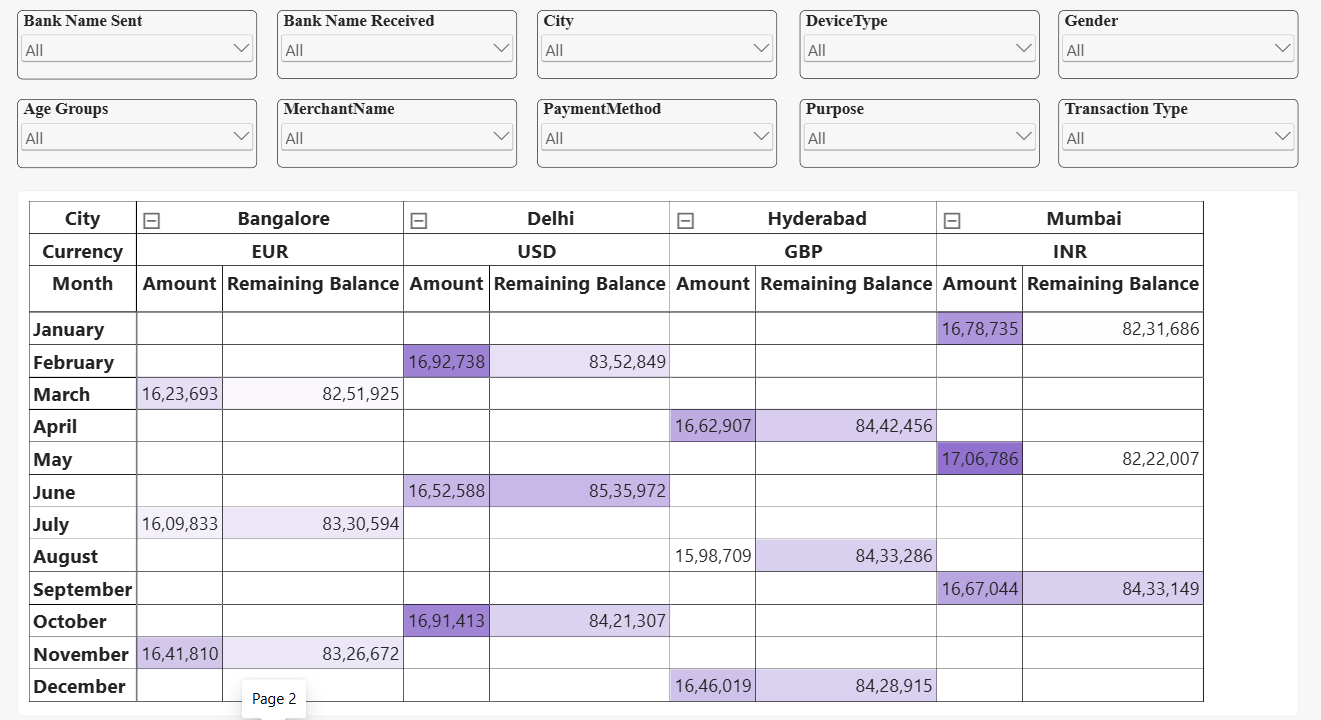

The dashboard page shown, as its layout file describes it:
{"tool":"powerbi","page":{"name":"Page 2","canvas":[1920,1080],"ordinal":1},"visuals":[{"type":"slicer","fields":{"Values":["UPI Transctions.BankNameSent"]},"box":[30.8,30.8,347.5,100],"z":0},{"type":"slicer","fields":{"Values":["UPI Transctions.BankNameReceived"]},"box":[407.2,30.8,347.5,99.5],"z":1000},{"type":"slicer","fields":{"Values":["UPI Transctions.City"]},"box":[783.6,30.8,347.5,99.5],"z":2000},{"type":"slicer","fields":{"Values":["UPI Transctions.DeviceType"]},"box":[1163.6,30.8,347.5,99.5],"z":3000},{"type":"slicer","fields":{"Values":["UPI Transctions.Gender"]},"box":[1538.2,30.8,347.5,99.5],"z":4000},{"type":"slicer","fields":{"Values":["UPI Transctions.Age Groups"]},"box":[30.8,159.3,347.5,100],"z":5000},{"type":"slicer","fields":{"Values":["UPI Transctions.MerchantName"]},"box":[407.2,159.3,347.5,99.5],"z":6000},{"type":"slicer","fields":{"Values":["UPI Transctions.PaymentMethod"]},"box":[783.6,159.3,347.5,99.5],"z":7000},{"type":"slicer","fields":{"Values":["UPI Transctions.Purpose"]},"box":[1163.6,159.3,347.5,99.5],"z":8000},{"type":"slicer","fields":{"Values":["UPI Transctions.TransactionType"]},"box":[1538.2,159.3,347.5,99.5],"z":9000},{"type":"pivotTable","fields":{"Columns":["UPI Transctions.City","UPI Transctions.Currency"],"Rows":["UPI Transctions.TransactionDate.Variation.Date Hierarchy.Month"],"Values":["Sum(UPI Transctions.Amount)","Sum(UPI Transctions.RemainingBalance)"]},"box":[30.8,291.4,1854.9,761.9],"z":10000}]}

Visuals, with their boxes on the page's 1920x1080 design canvas (x1, y1, x2, y2). These are canvas units, not pixel positions in the 1321x720 screenshot, which may show the page scaled, cropped or inside an application window:
slicer - UPI Transctions.BankNameSent: {"left": 31, "top": 31, "right": 378, "bottom": 131}
slicer - UPI Transctions.BankNameReceived: {"left": 407, "top": 31, "right": 755, "bottom": 130}
slicer - UPI Transctions.City: {"left": 784, "top": 31, "right": 1131, "bottom": 130}
slicer - UPI Transctions.DeviceType: {"left": 1164, "top": 31, "right": 1511, "bottom": 130}
slicer - UPI Transctions.Gender: {"left": 1538, "top": 31, "right": 1886, "bottom": 130}
slicer - UPI Transctions.Age Groups: {"left": 31, "top": 159, "right": 378, "bottom": 259}
slicer - UPI Transctions.MerchantName: {"left": 407, "top": 159, "right": 755, "bottom": 259}
slicer - UPI Transctions.PaymentMethod: {"left": 784, "top": 159, "right": 1131, "bottom": 259}
slicer - UPI Transctions.Purpose: {"left": 1164, "top": 159, "right": 1511, "bottom": 259}
slicer - UPI Transctions.TransactionType: {"left": 1538, "top": 159, "right": 1886, "bottom": 259}
pivotTable - UPI Transctions.City x UPI Transctions.Currency: {"left": 31, "top": 291, "right": 1886, "bottom": 1053}
